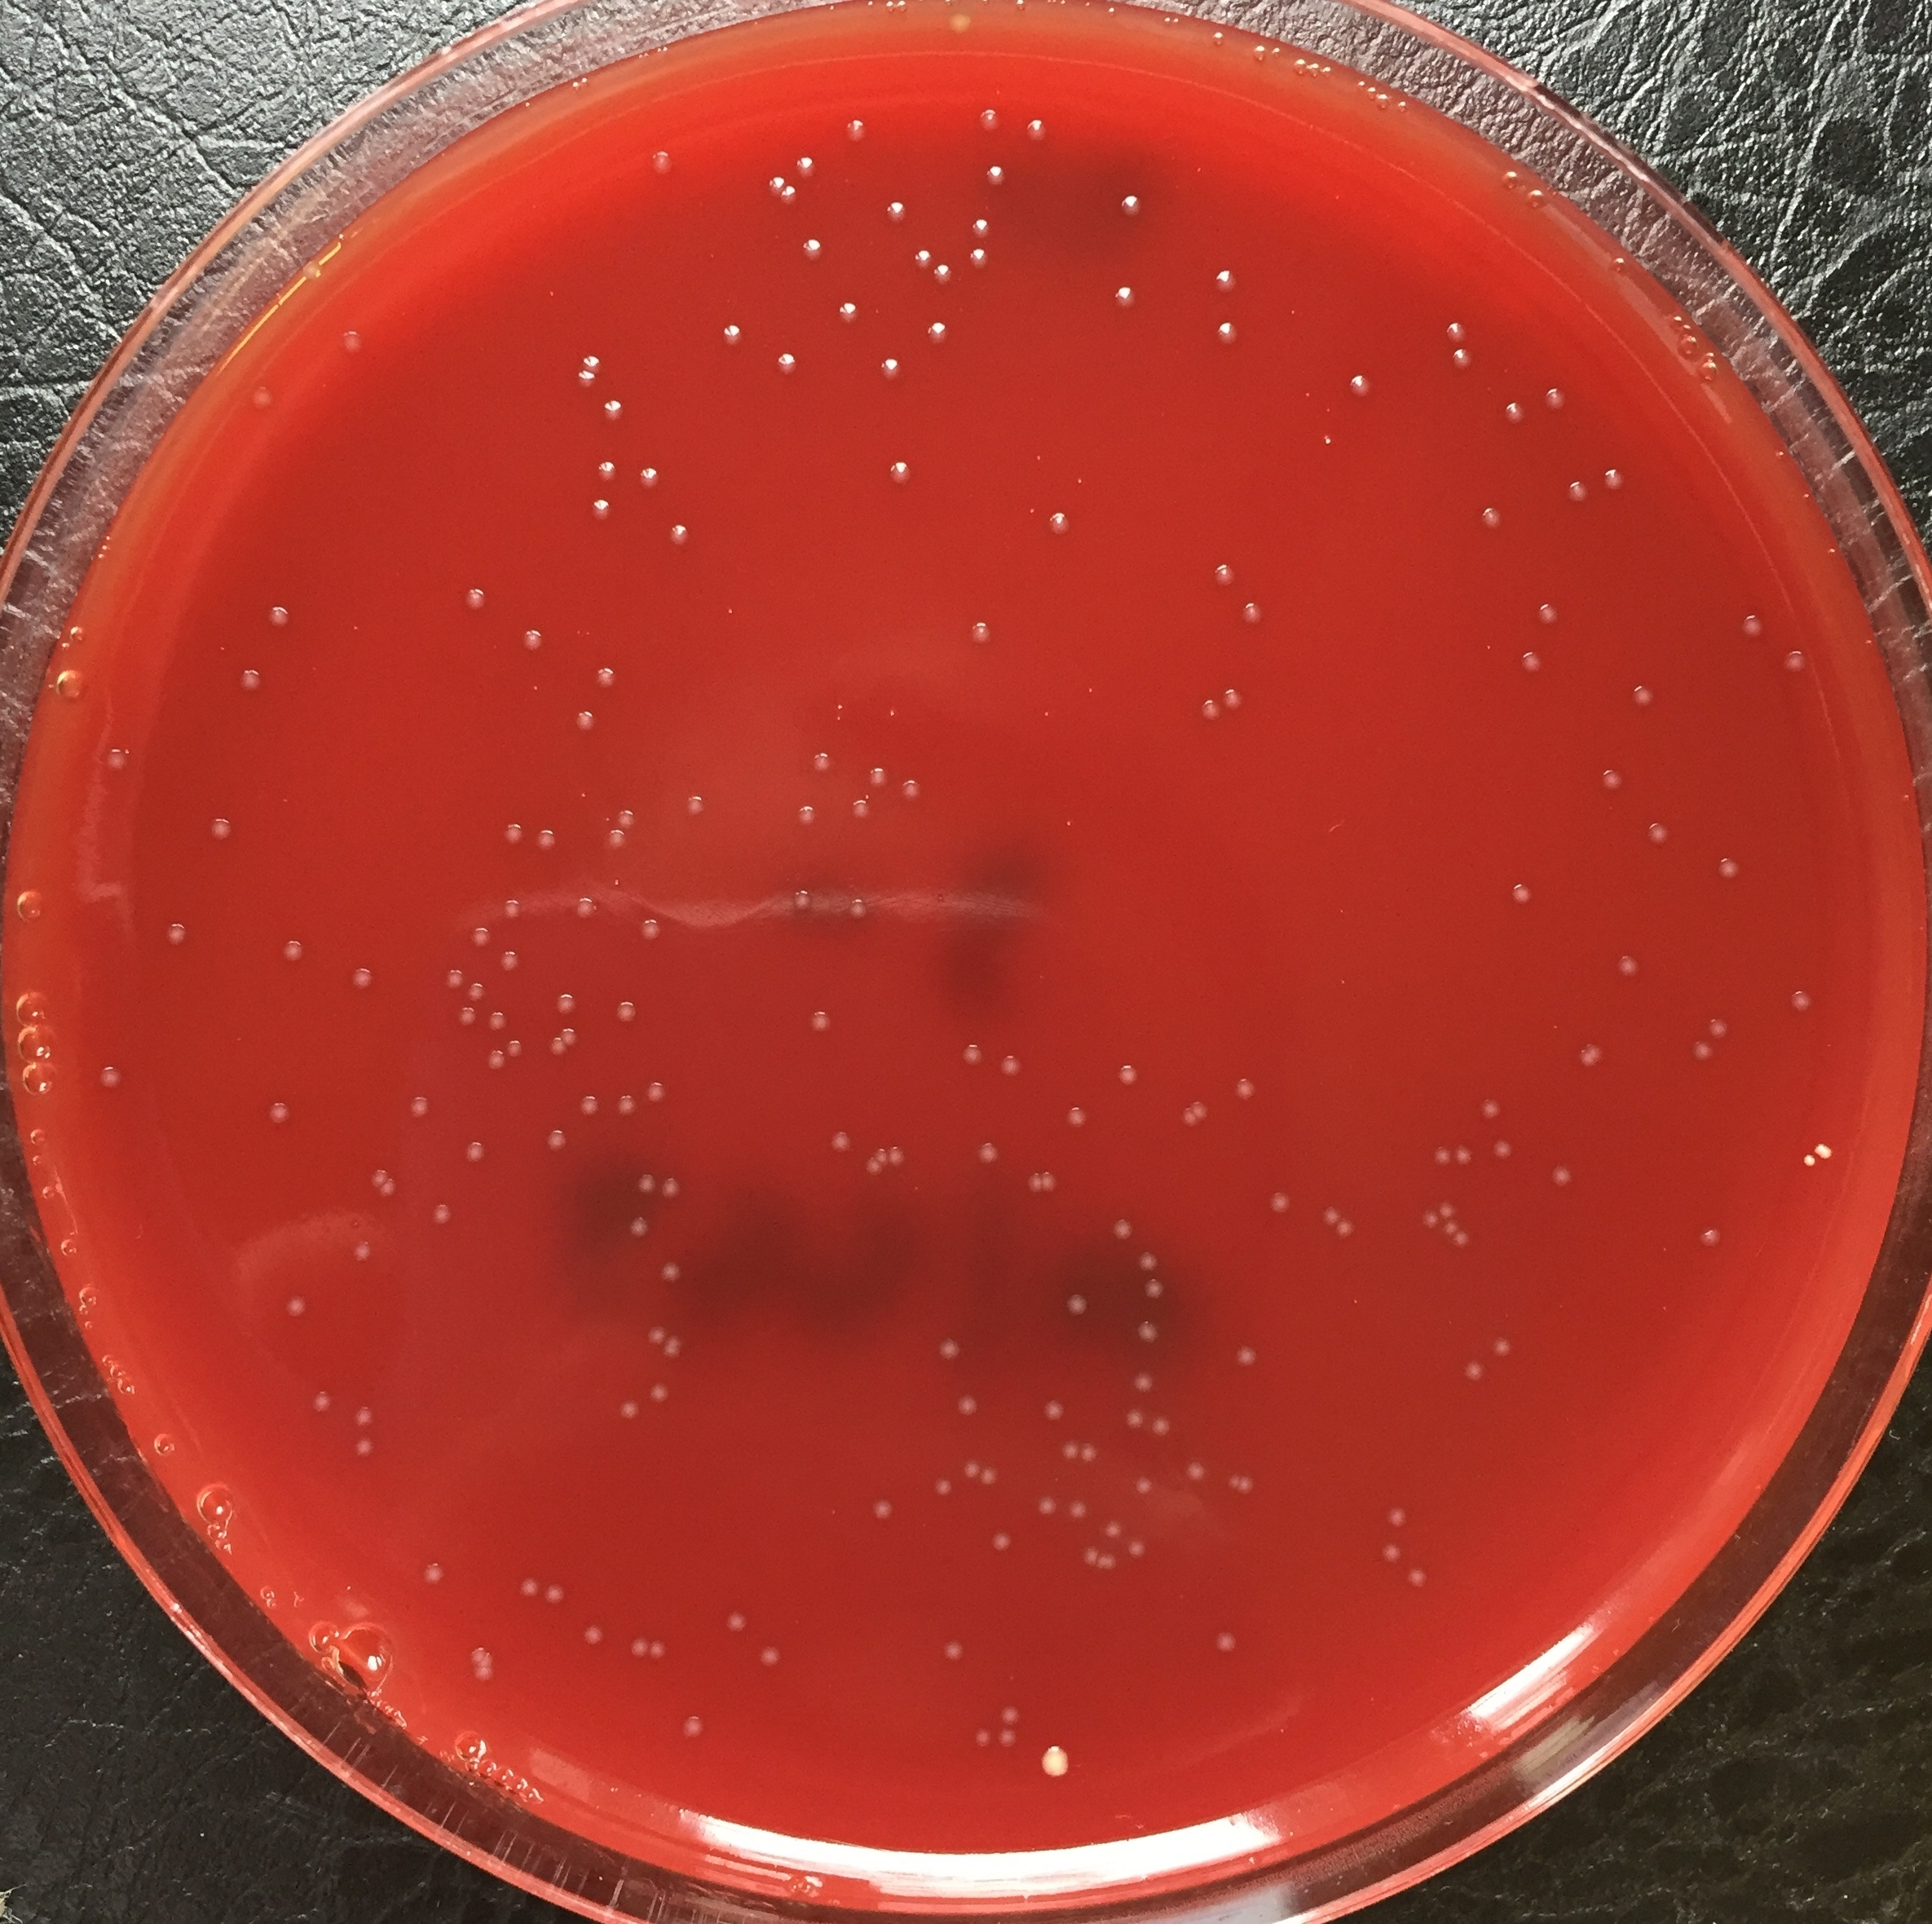sp10: (955, 601, 1009, 655), (877, 440, 928, 499), (1536, 1158, 1587, 1212), (1772, 634, 1832, 680), (1492, 865, 1537, 920), (1687, 1214, 1742, 1260), (974, 150, 1023, 199), (1508, 634, 1548, 694), (1624, 810, 1677, 855), (1034, 504, 1076, 559), (1553, 465, 1589, 530), (1564, 1031, 1611, 1078), (1597, 941, 1643, 990), (1229, 588, 1284, 629), (1707, 844, 1749, 895), (1592, 756, 1636, 803), (1536, 372, 1573, 426), (789, 226, 835, 270), (828, 289, 877, 329), (1018, 106, 1058, 155), (1518, 594, 1569, 633), (1592, 449, 1631, 500), (1471, 1089, 1516, 1131), (1728, 599, 1775, 640), (1108, 275, 1148, 321), (965, 100, 1013, 139), (874, 194, 923, 231), (1617, 678, 1659, 721), (1471, 495, 1511, 539), (1102, 185, 1148, 224), (1493, 393, 1532, 439), (1203, 544, 1238, 594), (299, 1378, 338, 1422), (232, 661, 273, 701), (1782, 983, 1821, 1025), (838, 109, 881, 148), (241, 382, 284, 421), (1437, 344, 1483, 379), (1692, 1013, 1738, 1048), (1189, 691, 1222, 738), (763, 340, 803, 379), (870, 354, 909, 395), (428, 1191, 460, 1240), (960, 208, 1011, 238), (965, 236, 1004, 275), (713, 310, 743, 359), (95, 738, 134, 775), (350, 1395, 389, 1432), (1449, 1140, 1485, 1180), (1229, 1341, 1265, 1381), (1206, 314, 1240, 356), (95, 1054, 127, 1098), (1229, 1059, 1257, 1108), (1198, 264, 1243, 294), (1432, 314, 1478, 344), (997, 1040, 1027, 1085), (1402, 1559, 1439, 1596), (919, 310, 958, 345), (1483, 1135, 1522, 1170), (750, 1639, 785, 1677), (599, 391, 636, 426), (1219, 675, 1252, 714), (417, 1556, 451, 1595), (331, 328, 372, 359), (261, 1092, 291, 1135), (659, 516, 692, 553), (1060, 1290, 1094, 1327), (671, 1713, 708, 1746), (639, 148, 678, 180), (204, 809, 236, 847), (493, 895, 534, 925), (944, 1388, 984, 1418), (789, 144, 822, 180), (564, 701, 597, 736), (840, 895, 875, 929), (782, 886, 817, 920), (458, 1133, 491, 1168), (1342, 368, 1374, 405), (638, 913, 669, 950), (645, 1374, 682, 1406), (514, 627, 548, 661), (576, 1619, 609, 1653), (1139, 1274, 1175, 1306), (343, 1233, 377, 1265), (1067, 1489, 1099, 1522), (278, 1295, 313, 1325), (403, 1091, 433, 1126), (611, 1397, 646, 1427), (655, 1253, 682, 1291), (583, 493, 615, 525), (262, 603, 294, 634), (571, 897, 602, 929), (1111, 1059, 1145, 1089), (974, 1135, 1007, 1165), (1039, 1395, 1073, 1425), (625, 1210, 653, 1246), (1427, 1133, 1448, 1179), (528, 826, 560, 856), (608, 995, 638, 1027), (1027, 1487, 1057, 1519), (870, 1496, 898, 1529), (1150, 1410, 1178, 1443), (630, 462, 666, 488), (277, 936, 312, 962), (512, 1572, 539, 1607), (541, 1573, 567, 1609), (1110, 1216, 1139, 1246), (1265, 1188, 1294, 1217), (1136, 1246, 1166, 1276), (845, 795, 877, 823), (932, 1334, 960, 1365), (1386, 1498, 1414, 1529), (1687, 1038, 1714, 1071), (458, 581, 484, 615), (660, 1170, 687, 1203), (907, 245, 932, 280), (350, 960, 375, 995), (988, 1700, 1025, 1723), (602, 825, 632, 853), (807, 1008, 837, 1036), (613, 1094, 643, 1122), (993, 1727, 1023, 1755), (164, 918, 190, 950), (826, 1126, 852, 1158), (958, 1038, 984, 1069), (720, 1607, 747, 1639), (1213, 1626, 1240, 1658), (1375, 1536, 1402, 1568), (1185, 1455, 1210, 1489), (1333, 1216, 1361, 1244), (630, 1170, 659, 1198), (542, 1126, 569, 1156), (453, 1001, 483, 1027), (1460, 1358, 1490, 1385), (1134, 1323, 1164, 1350), (984, 1531, 1014, 1558), (1131, 1473, 1157, 1503), (933, 259, 958, 291), (930, 1475, 955, 1506), (1129, 1531, 1154, 1563), (648, 1632, 669, 1669), (1127, 1369, 1161, 1392), (1023, 1163, 1043, 1202), (498, 819, 525, 847), (680, 791, 706, 819), (1041, 1161, 1058, 1203), (662, 1337, 690, 1364), (1099, 1515, 1125, 1543), (468, 1665, 495, 1693), (495, 950, 520, 980), (463, 923, 493, 948), (465, 976, 490, 1006), (505, 1029, 528, 1061), (627, 1633, 648, 1667), (863, 763, 889, 789), (1488, 1330, 1515, 1357), (939, 1639, 965, 1665), (613, 809, 643, 832), (553, 988, 576, 1018), (979, 1462, 1002, 1492), (1095, 1552, 1118, 1582), (1080, 1436, 1102, 1466), (889, 1143, 911, 1175), (763, 171, 787, 197), (592, 666, 618, 691), (557, 1024, 581, 1050), (1067, 1103, 1092, 1129), (1058, 1436, 1076, 1473), (350, 1439, 375, 1466), (379, 1180, 403, 1207), (1314, 1196, 1337, 1225), (588, 460, 618, 481), (565, 372, 597, 391), (578, 1092, 601, 1119), (895, 777, 923, 798), (571, 352, 601, 372), (1078, 1540, 1097, 1570), (782, 187, 805, 211), (645, 1080, 667, 1105), (641, 1320, 664, 1344), (1122, 1408, 1145, 1432), (460, 1640, 483, 1665), (1236, 1469, 1259, 1494), (486, 1045, 504, 1077), (794, 802, 815, 826), (1416, 1207, 1437, 1232), (812, 751, 831, 775), (442, 966, 461, 990), (1453, 1235, 1474, 1256), (859, 1161, 882, 1180), (972, 1725, 990, 1750), (476, 1647, 500, 1665), (1192, 1098, 1210, 1122), (960, 1457, 979, 1478), (488, 1008, 505, 1031), (1435, 1200, 1460, 1216), (1226, 1468, 1238, 1498), (365, 1166, 384, 1184), (548, 1036, 564, 1057), (1442, 1217, 1458, 1235), (872, 1142, 886, 1161), (1180, 1112, 1194, 1129)
